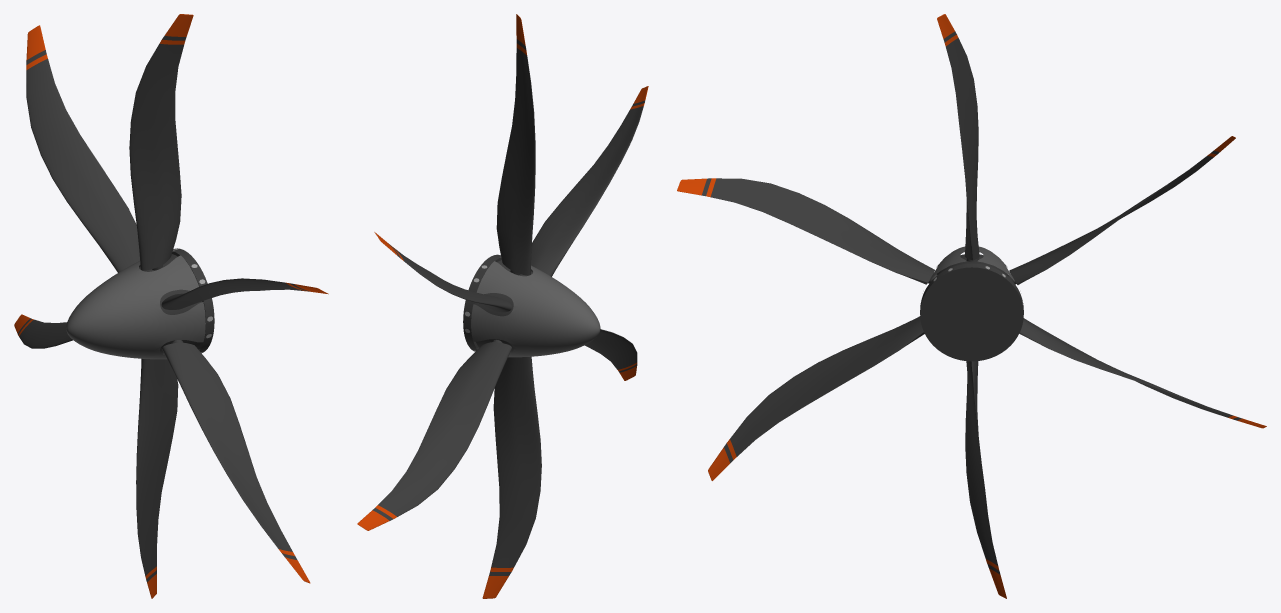
File: propeller.glb
The picture shows the model from 3 angles, left to right: view 1: azimuth 30°, elevation 25°; view 2: azimuth 150°, elevation 25°; view 3: azimuth 270°, elevation 25°; orthographic projection. The views are drawn at different scales.
Parts seen in each view (by area): view 1: PROP; view 2: PROP; view 3: PROP.
Boxes of the visible parts, x1,y1,x2,y2 form: PROP: (14,14,328,598); PROP: (357,14,648,598); PROP: (677,14,1266,598).
Bounding box in the file's own units: 0.8481 × 4.08 × 3.75.
